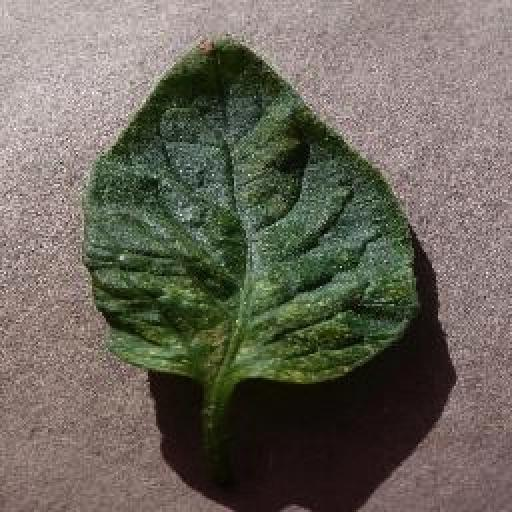disease_tomato: (78, 30, 416, 386)
